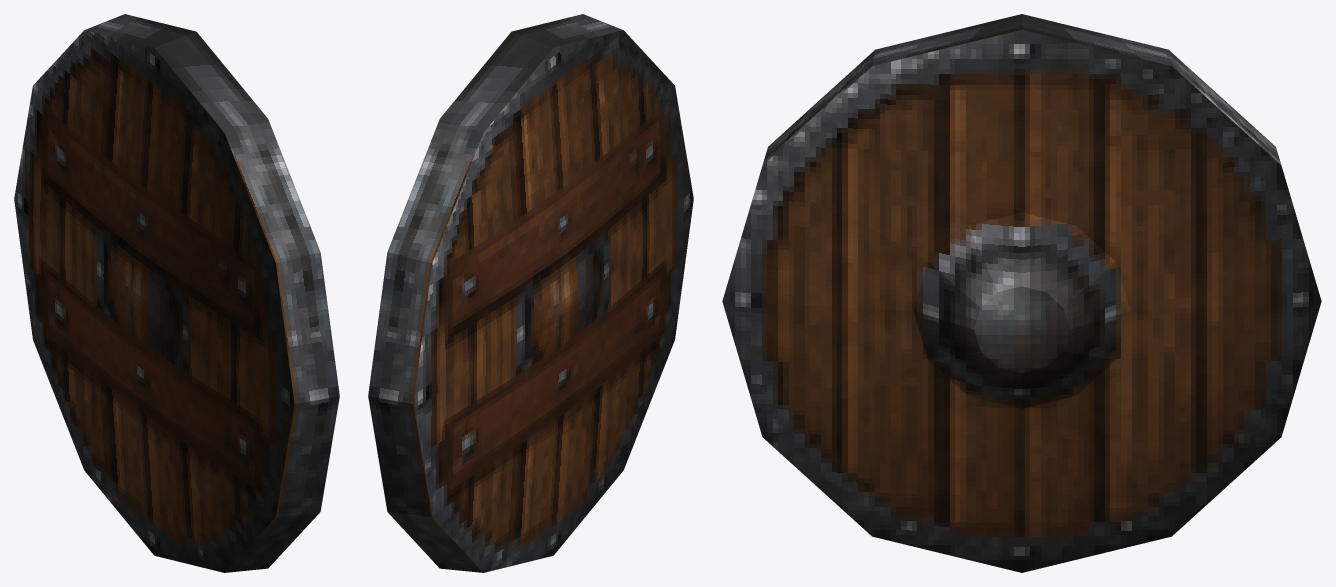
The model's file is umbo.glb.
3 views of the same model, side by side, from view 1: azimuth 30°, elevation 25°; view 2: azimuth 150°, elevation 25°; view 3: azimuth 270°, elevation 25° (orthographic). The views are drawn at different scales.
Visible parts, largest first — view 1: escudo.mano.umbo; view 2: escudo.mano.umbo; view 3: escudo.mano.umbo.
Part boxes in pixels (<box>): escudo.mano.umbo: <box>14,14,339,572</box>; escudo.mano.umbo: <box>368,14,693,572</box>; escudo.mano.umbo: <box>722,14,1321,572</box>.
Size of the model in its own units: 0.183 by 0.8 by 0.8.
Materials: 1 (1 with a texture image).
